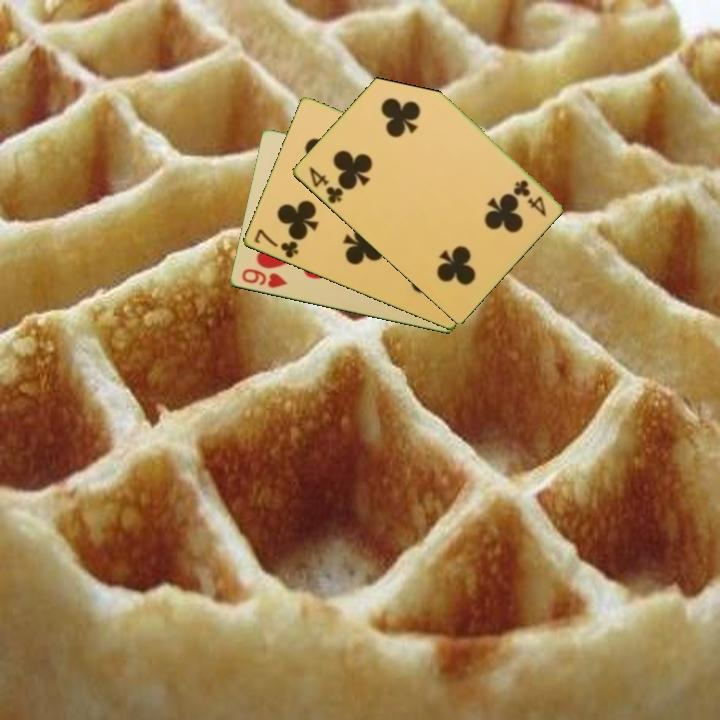4c: (305, 163, 346, 207), (510, 176, 549, 219)
7c: (250, 226, 301, 261)
9h: (238, 265, 289, 291)
